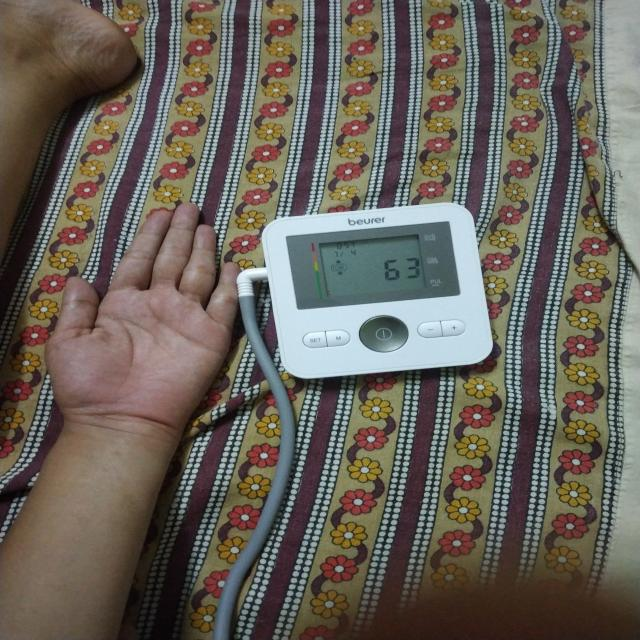display: (318, 234, 428, 300)
frame: (374, 250, 422, 288), (332, 249, 359, 258), (343, 240, 357, 249)
gauge: (260, 205, 496, 383)
